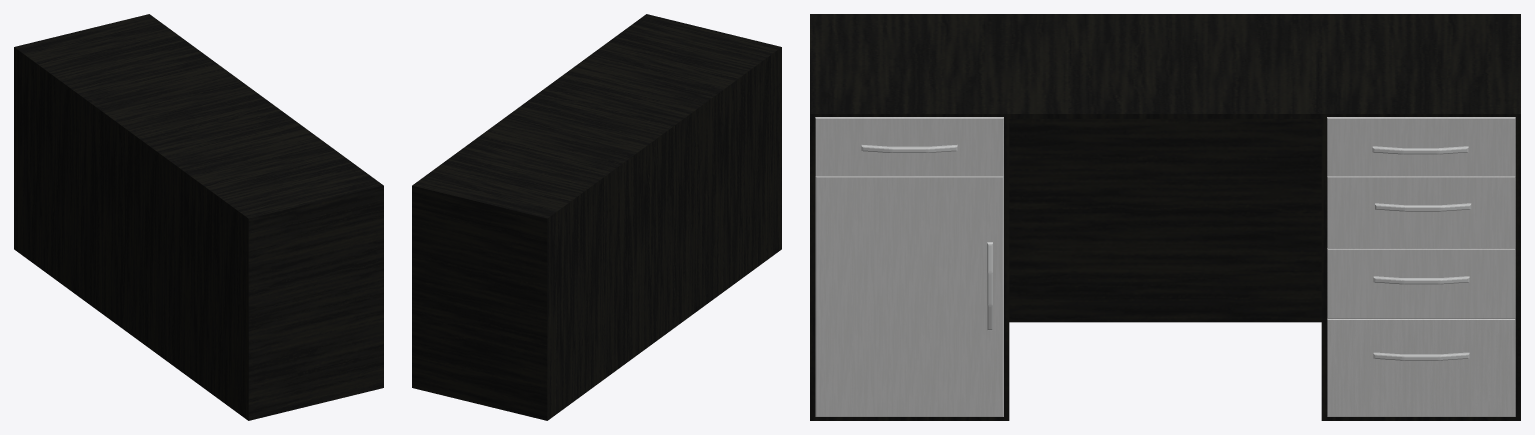
File: table.dae
3 views of the same model, side by side, from view 1: azimuth 30°, elevation 25°; view 2: azimuth 150°, elevation 25°; view 3: azimuth 270°, elevation 25° (orthographic). The views are drawn at different scales.
Visible parts, largest first — view 1: Stol; view 2: Stol; view 3: Stol, 6_0, 5_0, 3_0, 4_0, 2_0, 1_0.
Boxes of the visible parts, left/top/right/bottom form: Stol: left=14, top=14, right=383, bottom=420; Stol: left=412, top=14, right=781, bottom=420; Stol: left=810, top=14, right=1520, bottom=420; 6_0: left=815, top=176, right=1003, bottom=416; 5_0: left=1327, top=319, right=1515, bottom=416; 3_0: left=1327, top=176, right=1515, bottom=248; 4_0: left=1327, top=248, right=1515, bottom=318; 2_0: left=1327, top=117, right=1515, bottom=176; 1_0: left=815, top=117, right=1003, bottom=176.
Size of the model in its own units: 0.6867 by 1.97 by 0.9361.
7 materials, 7 textured.
